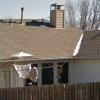Chimney: (47, 1, 73, 35)
